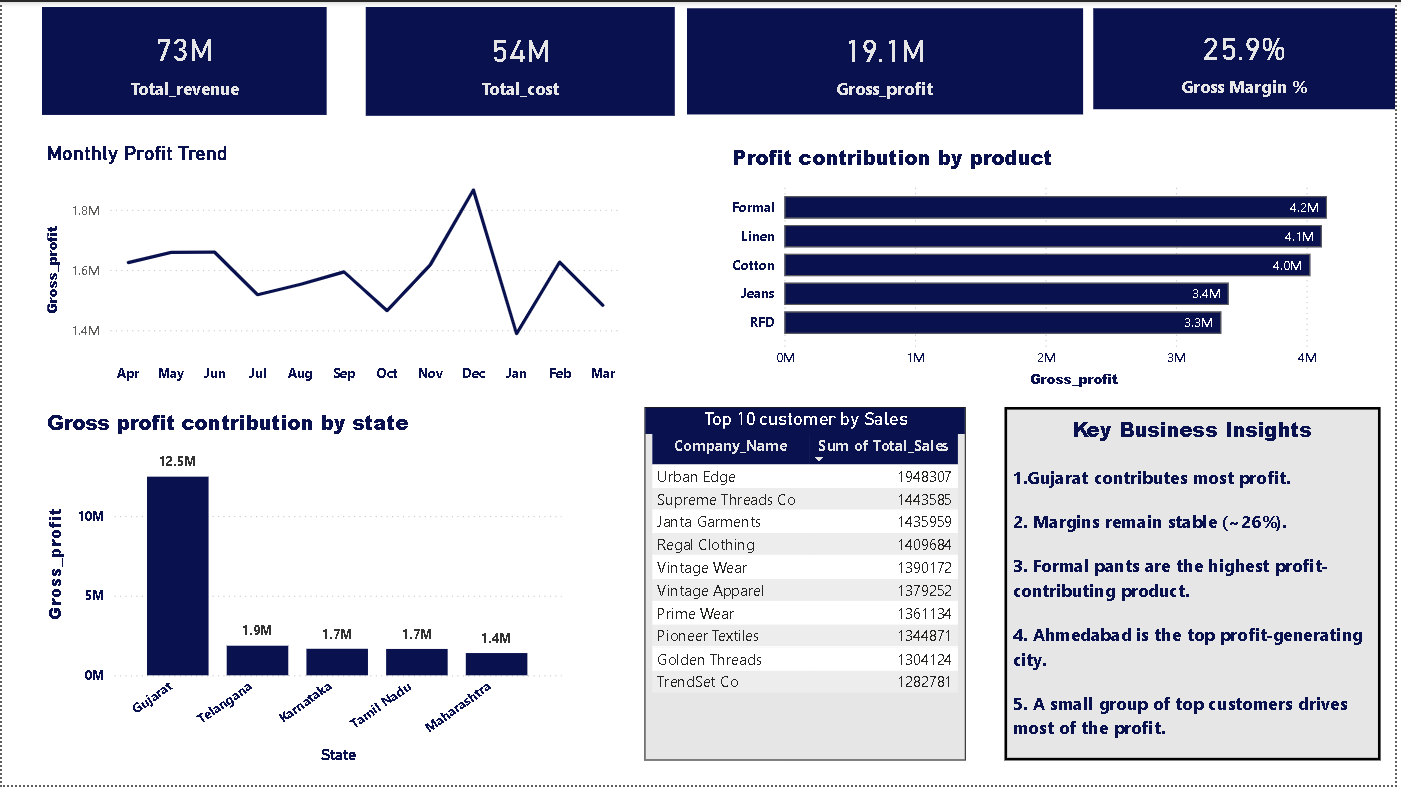

What the dashboard file says about the page in this screenshot:
{"tool":"powerbi","page":{"name":"Page 1","canvas":[1280,720],"ordinal":0},"visuals":[{"type":"lineChart","title":"Monthly Profit Trend","fields":{"Category":["Month_Dim.Month"],"Y":["2024-2025.Gross_profit"]},"box":[36.8,128.7,536.4,230.9],"z":0},{"type":"barChart","title":"Profit contribution by product","fields":{"Category":["2024-2025.Product"],"Y":["2024-2025.Gross_profit"]},"box":[666.3,129.1,600,231.4],"z":1},{"type":"columnChart","title":"Gross profit contribution by state","fields":{"Category":["2024-2025.State"],"Y":["2024-2025.Gross_profit"]},"box":[37.2,372.1,482.6,332.6],"z":2},{"type":"card","fields":{"Values":["2024-2025.Gross_profit"]},"box":[629.1,5.8,364,97.7],"z":4},{"type":"card","fields":{"Values":["2024-2025.Total_cost"]},"box":[333.7,4.7,283.7,100],"z":5},{"type":"card","fields":{"Values":["2024-2025.Total_revenue"]},"box":[37.2,4.7,261.6,98.8],"z":7},{"type":"card","fields":{"Values":["2024-2025.Gross Margin %"]},"box":[1002.3,5.8,277.9,93],"z":8},{"type":"tableEx","title":"Top 10 customer by Sales","fields":{"Values":["2024-2025.Company_Name","Sum(2024-2025.Total_Sales)"]},"box":[590.7,372.1,295.3,324.4],"z":9},{"type":"textbox","box":[920.9,372.1,345.3,324.4],"z":10}]}

Visuals, with their boxes in screenshot pixels (x1, y1, x2, y2), scaled from the page's 1280x720 canvas onto the 1401x790 screenshot:
"Monthly Profit Trend" lineChart: [40,141,627,395]
"Profit contribution by product" barChart: [729,142,1386,396]
"Gross profit contribution by state" columnChart: [41,408,569,773]
card - 2024-2025.Gross_profit: [689,6,1087,114]
card - 2024-2025.Total_cost: [365,5,676,115]
card - 2024-2025.Total_revenue: [41,5,327,114]
card - 2024-2025.Gross Margin %: [1097,6,1400,108]
"Top 10 customer by Sales" tableEx: [647,408,970,764]
textbox: [1008,408,1386,764]
